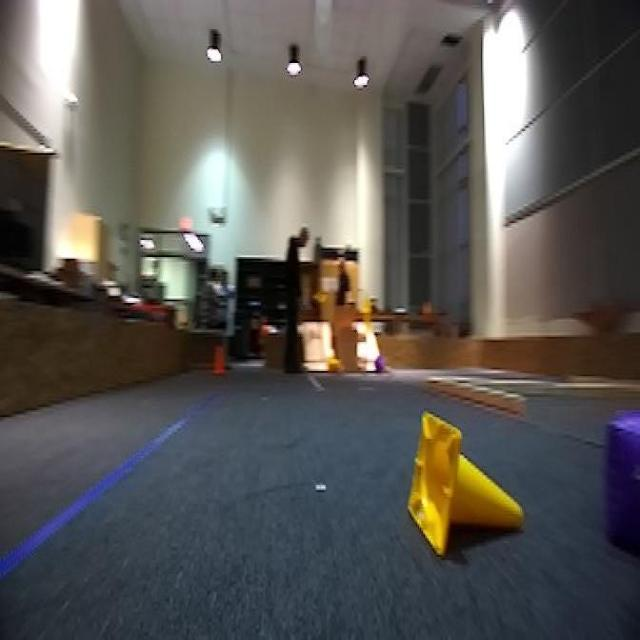frc_cone: (404, 414, 529, 552), (325, 358, 339, 376)
frc_cube: (602, 417, 640, 553), (374, 351, 387, 371)
